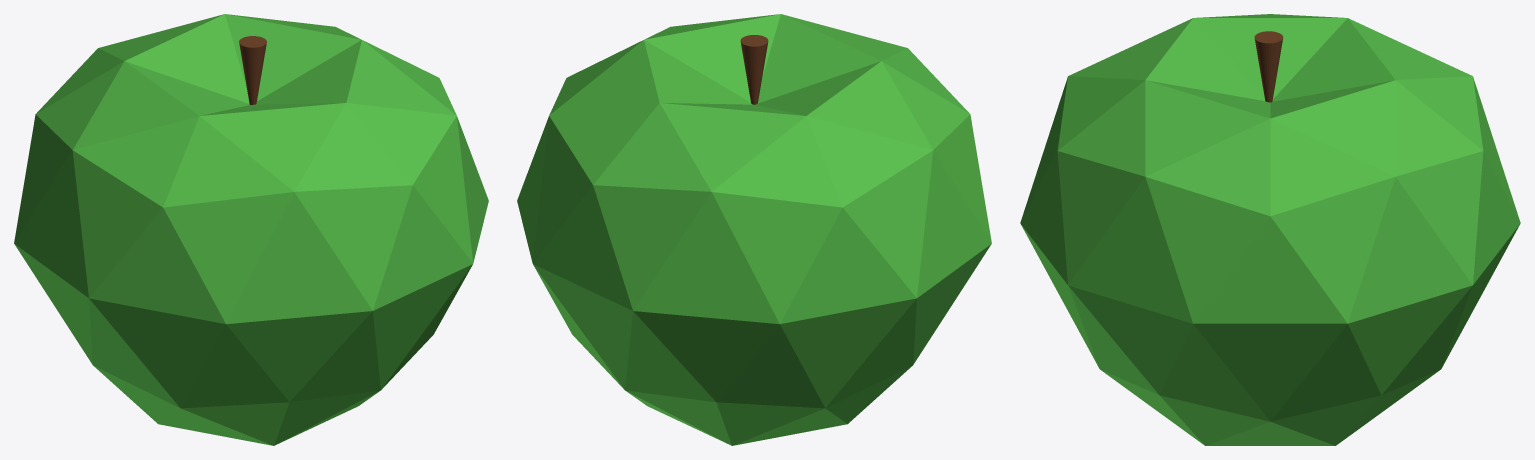
File: AppleGreen.fbx
3 renders of one model, left to right at view 1: azimuth 30°, elevation 25°; view 2: azimuth 150°, elevation 25°; view 3: azimuth 270°, elevation 25°, orthographic. The views are drawn at different scales.
Parts seen in each view (by area): view 1: Icosphere, Cone; view 2: Icosphere, Cone; view 3: Icosphere, Cone.
Part boxes in pixels (x1,y1,x2,y2): Icosphere: (14, 14, 488, 445); Cone: (239, 36, 266, 104); Icosphere: (517, 14, 991, 445); Cone: (740, 35, 768, 104); Icosphere: (1020, 14, 1520, 445); Cone: (1254, 31, 1283, 102).
Bounding box in the file's own units: 12.98 × 11.16 × 13.65.
